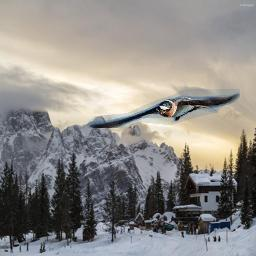Swallow: (88, 89, 240, 128)
